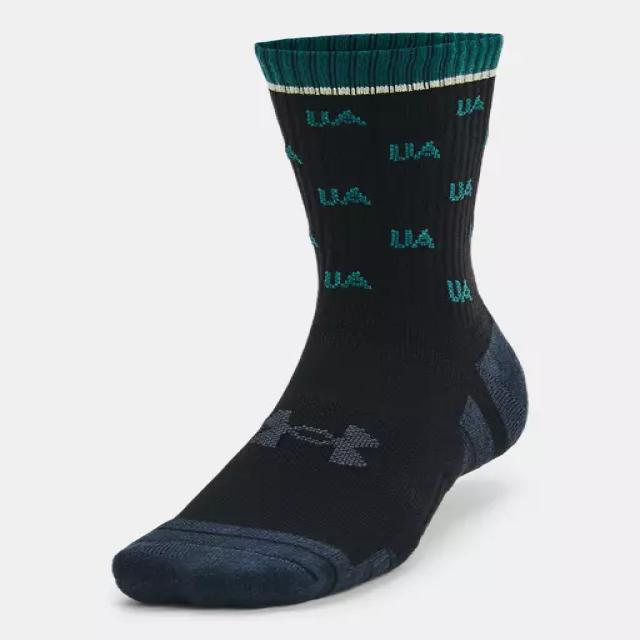sock: (110, 30, 529, 608)
